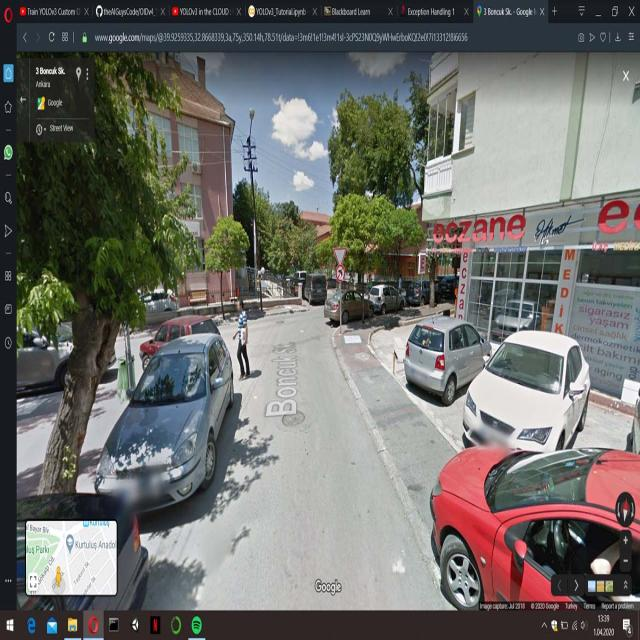soladonulmez: (336, 265, 345, 283)
